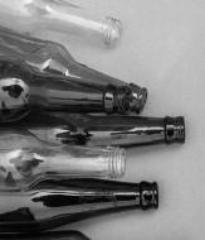glass: (0, 0, 188, 238)
